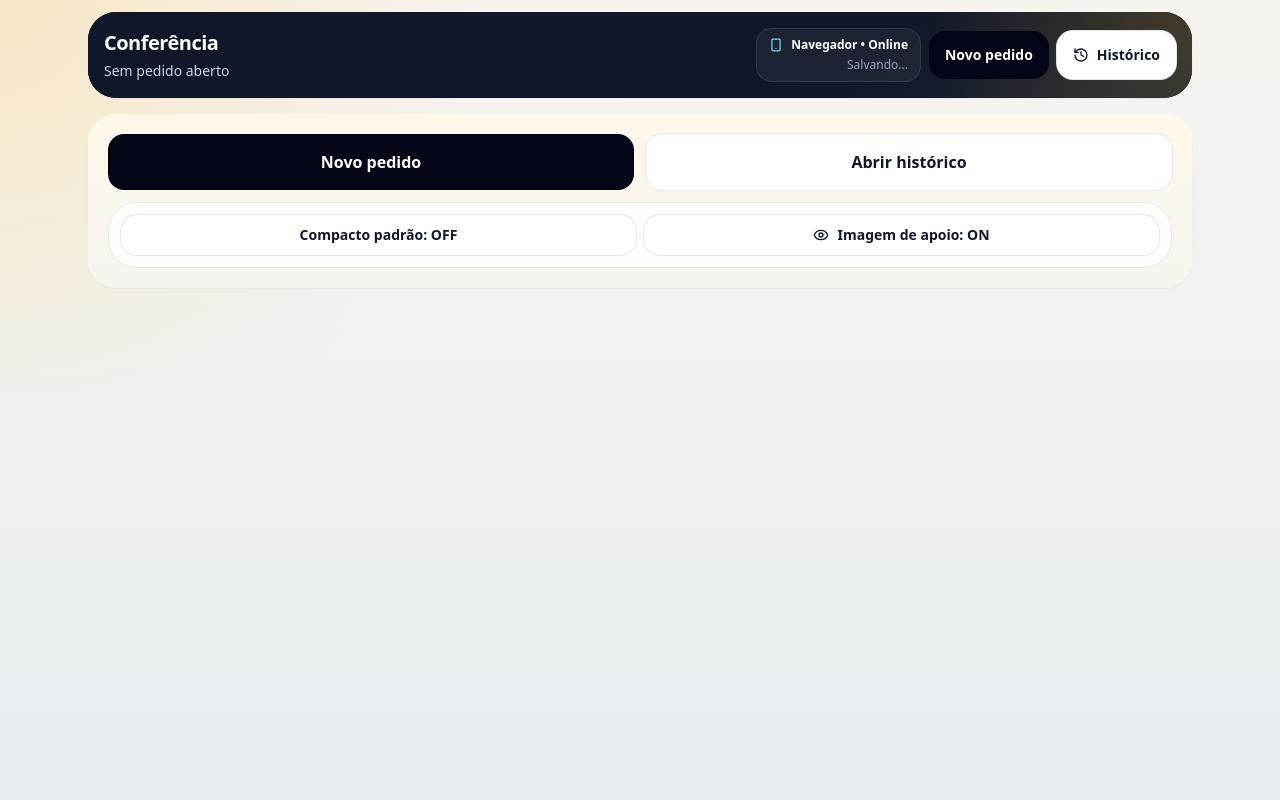
it: App integration › importa item por texto e mostra no checklist operacional
This screenshot has width=1280, height=800.
Expected: the heading "Conferência" is shown, 104,29 -> 229,57
Step 1. Click the button "Novo pedido" next to "Online" → click(989, 55), box 929,31 -> 1049,79
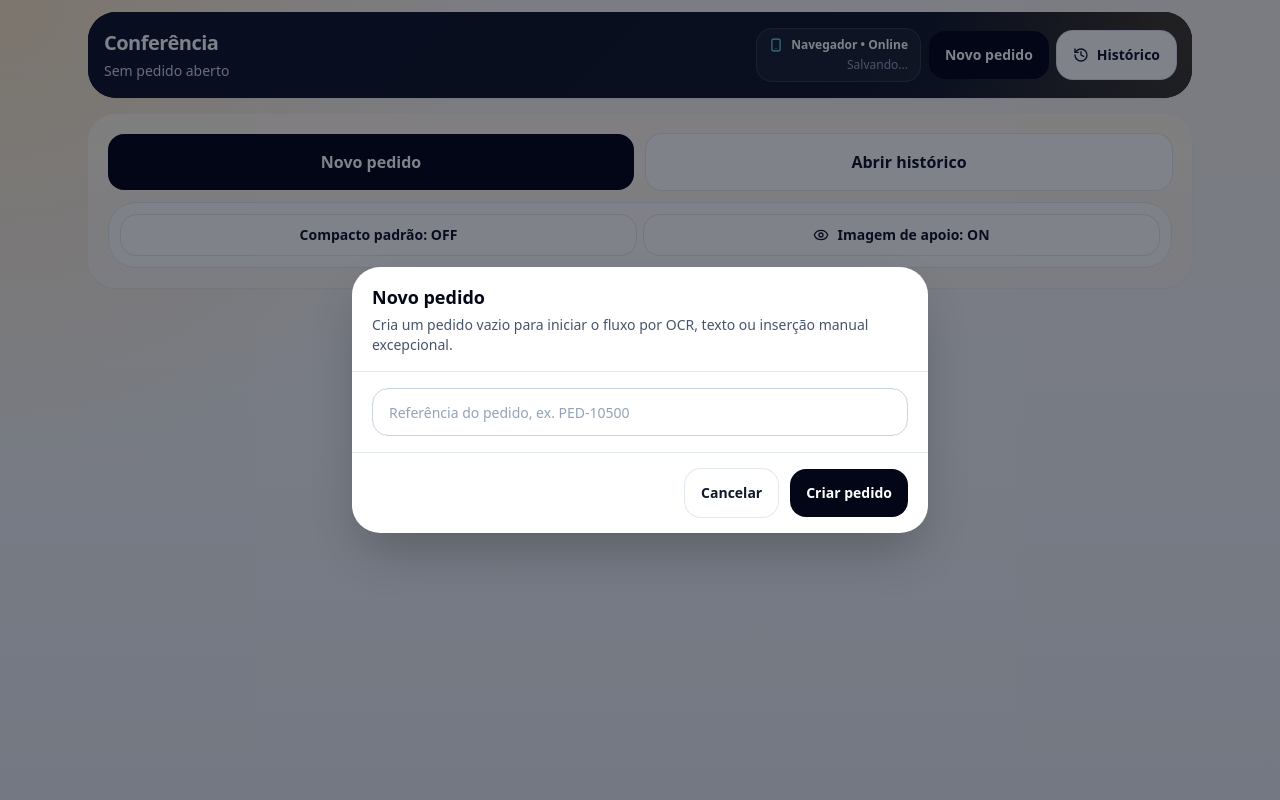
Step 2. Click the button "Criar pedido" → click(849, 493), box 790,469 -> 908,517
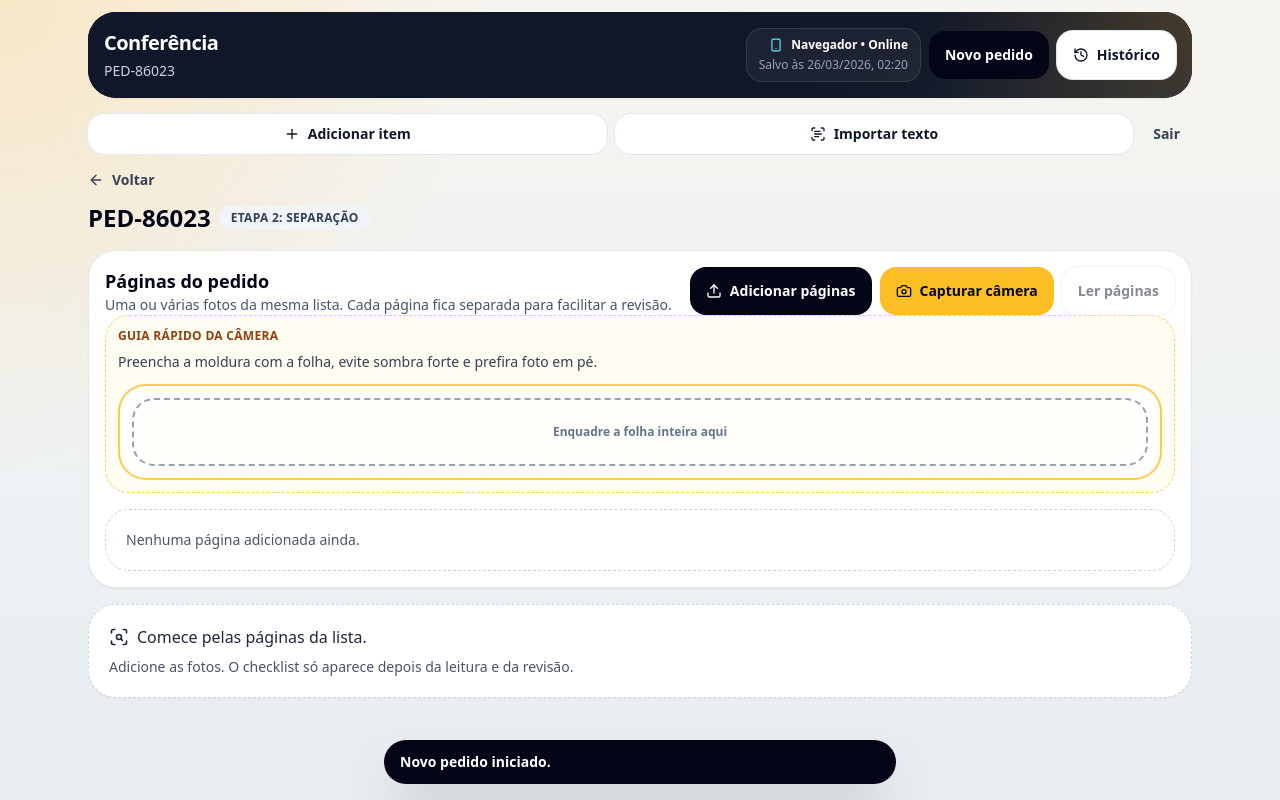
Step 3. Click the button "Importar texto" → click(874, 134), box 615,114 -> 1133,154
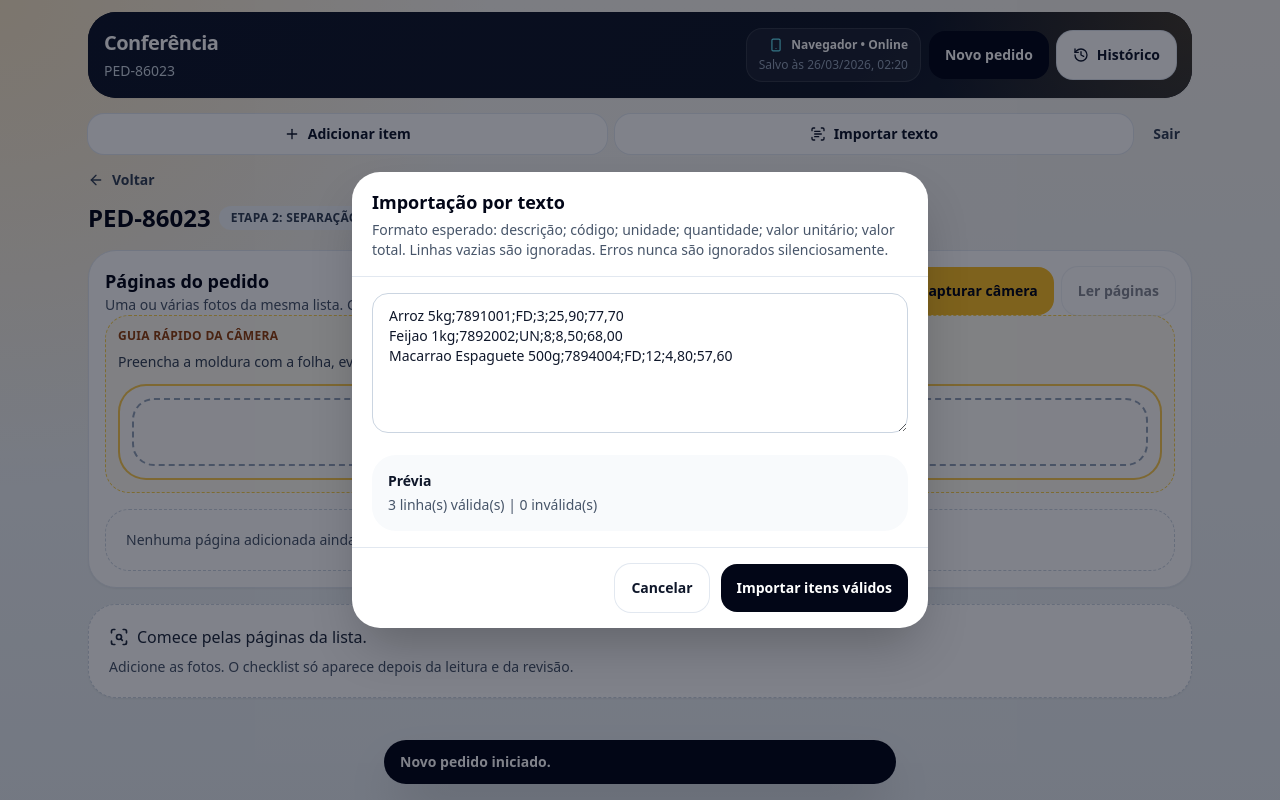
Step 4. Replace the text in the text box with "Produto Integracao XYZ;INT-9001;UN;4;12,50;50,00" → (640, 363), box 372,293 -> 908,433
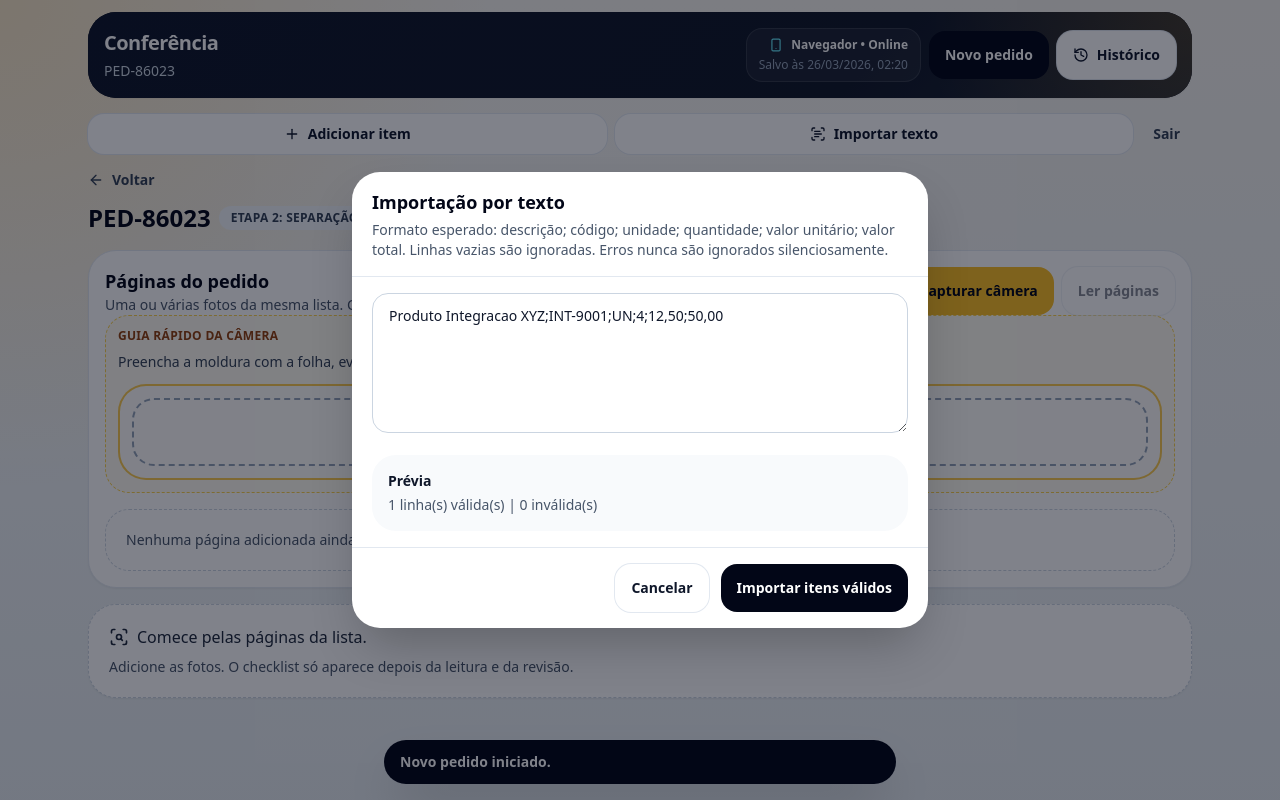
Step 5. Click the button "Importar itens válidos" → click(814, 588), box 720,564 -> 908,612
(page scrolled)
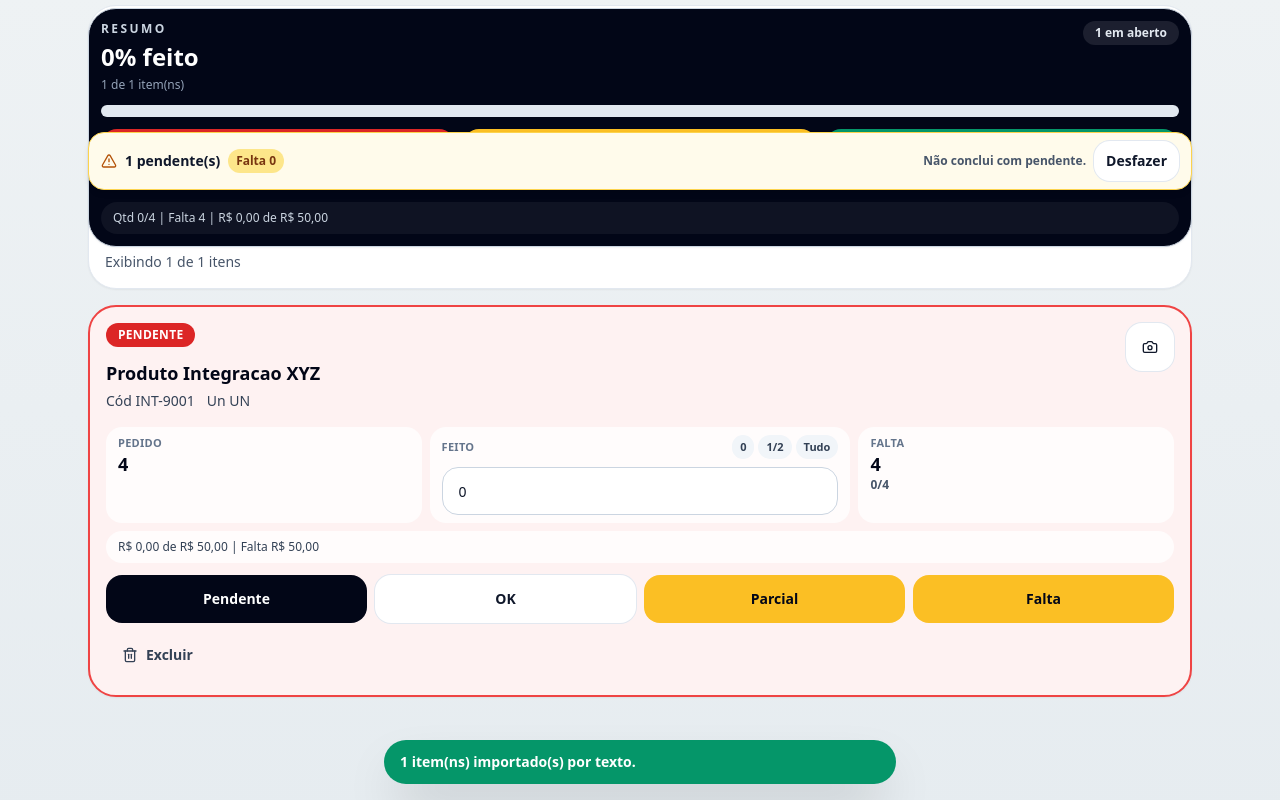
Now the heading "Produto Integracao XYZ" is shown, box 106,358 -> 320,386
Now the text "Cód INT-9001" is shown, box 106,390 -> 195,410
